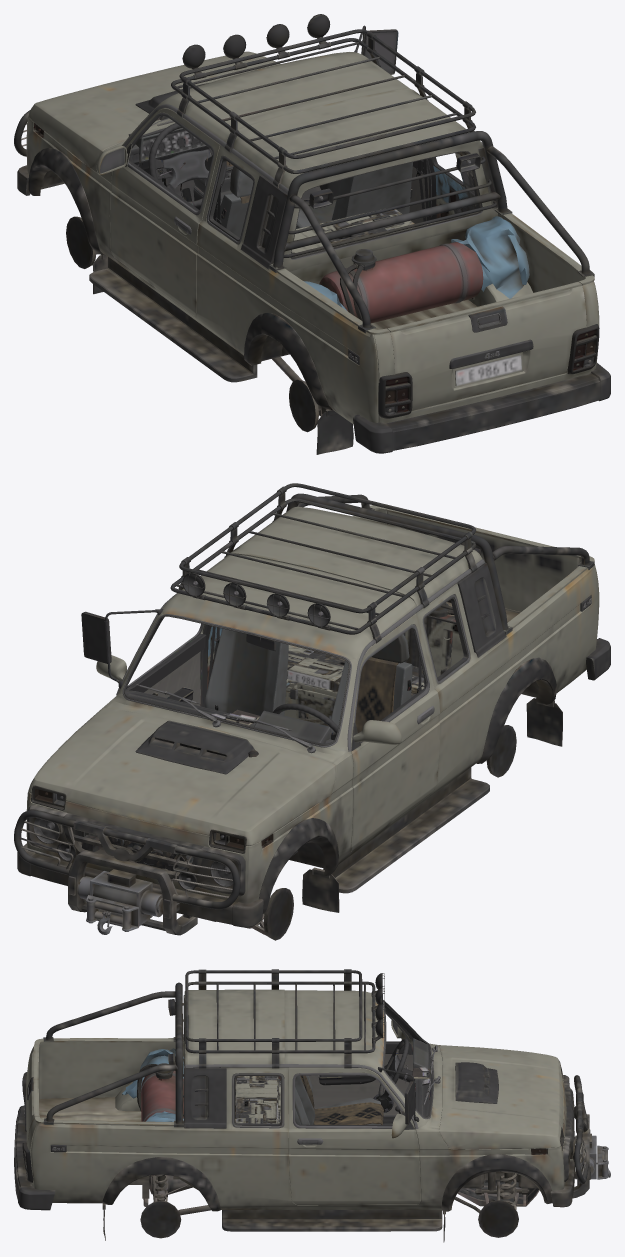
File: vehicle.gltf
The picture shows the model from 3 angles, top to bottom: view 1: azimuth 30°, elevation 25°; view 2: azimuth 150°, elevation 25°; view 3: azimuth 270°, elevation 25°; orthographic projection. The views are drawn at different scales.
Visible parts, largest first — view 1: Mesh_3.001, Mesh_4.001, Mesh_5.001, Mesh_2.001, Mesh_9.001, Mesh_8.001, Mesh_6.001, Mesh_11.001, Mesh_10.001; view 2: Mesh_4.001, Mesh_3.001, Mesh_5.001, Mesh_2.001, Mesh_8.001, Mesh_11.001, Mesh_6.001, Mesh_9.001, Mesh_10.001, Mesh_12.001; view 3: Mesh_4.001, Mesh_3.001, Mesh_2.001, Mesh_5.001, Mesh_6.001, Mesh_9.001, Mesh_8.001, Mesh_11.001, Mesh_7.001, Mesh_10.001.
Part boxes in pixels (left/top/right/bottom): Mesh_3.001: left=14, top=14, right=610, bottom=453; Mesh_4.001: left=25, top=31, right=599, bottom=431; Mesh_5.001: left=18, top=14, right=601, bottom=450; Mesh_2.001: left=28, top=51, right=586, bottom=410; Mesh_9.001: left=128, top=128, right=479, bottom=237; Mesh_8.001: left=131, top=123, right=478, bottom=228; Mesh_6.001: left=41, top=170, right=353, bottom=454; Mesh_11.001: left=291, top=152, right=476, bottom=256; Mesh_10.001: left=128, top=146, right=479, bottom=221; Mesh_4.001: left=26, top=493, right=599, bottom=935; Mesh_3.001: left=14, top=483, right=610, bottom=934; Mesh_5.001: left=19, top=483, right=595, bottom=934; Mesh_2.001: left=28, top=508, right=579, bottom=845; Mesh_8.001: left=126, top=617, right=426, bottom=743; Mesh_11.001: left=207, top=617, right=463, bottom=726; Mesh_6.001: left=78, top=698, right=562, bottom=940; Mesh_9.001: left=125, top=616, right=456, bottom=744; Mesh_10.001: left=126, top=617, right=426, bottom=732; Mesh_12.001: left=72, top=752, right=258, bottom=877; Mesh_4.001: left=15, top=974, right=610, bottom=1219; Mesh_3.001: left=14, top=969, right=610, bottom=1231; Mesh_2.001: left=24, top=1045, right=564, bottom=1204; Mesh_5.001: left=14, top=970, right=608, bottom=1228; Mesh_6.001: left=102, top=1172, right=539, bottom=1242; Mesh_9.001: left=295, top=1001, right=432, bottom=1124; Mesh_8.001: left=295, top=1004, right=430, bottom=1126; Mesh_11.001: left=235, top=1076, right=280, bottom=1123; Mesh_7.001: left=102, top=1171, right=536, bottom=1219; Mesh_10.001: left=301, top=1004, right=430, bottom=1123.
Bounding box in the file's own units: 2.03 × 1.69 × 4.47.
5 materials, 5 textured.
